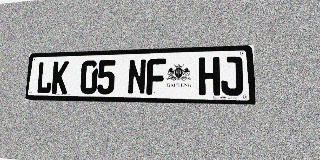0: (80, 60, 98, 94)
5: (97, 60, 116, 94)
F: (146, 58, 166, 95)
H: (199, 57, 220, 95)
J: (220, 56, 243, 96)
K: (51, 61, 69, 94)
L: (36, 61, 53, 94)
N: (127, 59, 146, 95)
